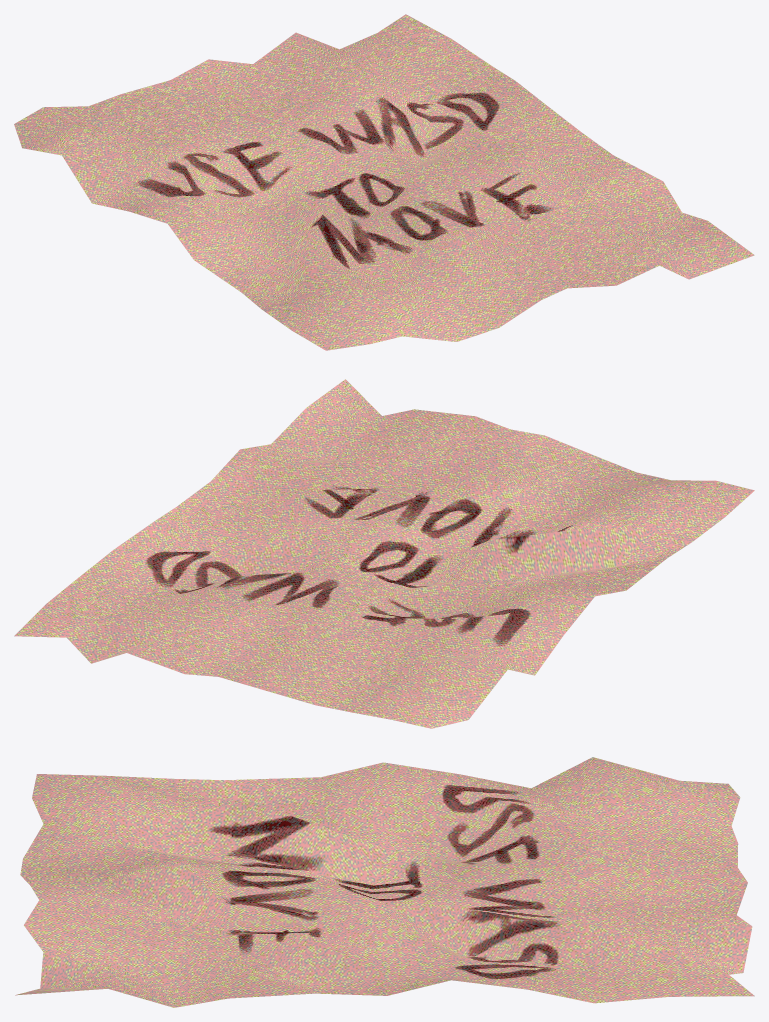
The model's file is wasdcorrect.fbx.
3 views of the same model, one above another, from view 1: azimuth 30°, elevation 25°; view 2: azimuth 150°, elevation 25°; view 3: azimuth 270°, elevation 25° (orthographic). The views are drawn at different scales.
Parts seen in each view (by area): view 1: Plane; view 2: Plane; view 3: Plane.
Boxes of the visible parts, left/top/right/bottom form: Plane: left=14, top=14, right=754, bottom=350; Plane: left=14, top=379, right=754, bottom=728; Plane: left=15, top=757, right=754, bottom=1007.
Size of the model in its own units: 130 by 11.38 by 176.
